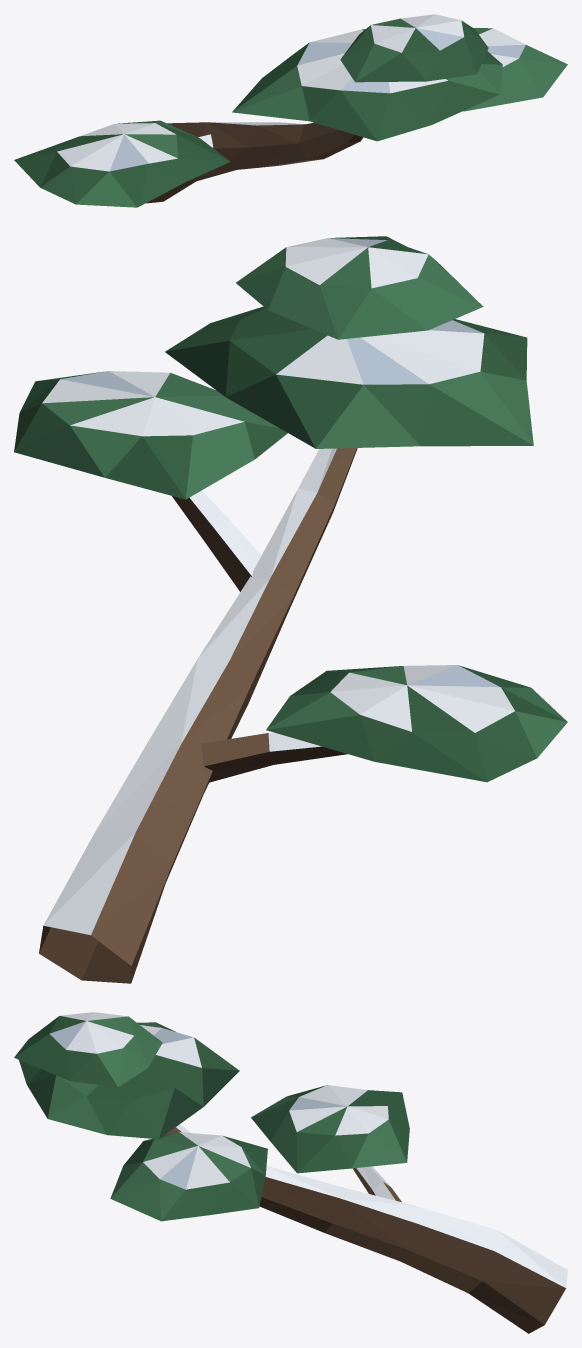
The model's file is pine_falls_lip.fbx.
The picture shows the model from 3 angles, top to bottom: view 1: azimuth 30°, elevation 25°; view 2: azimuth 150°, elevation 25°; view 3: azimuth 270°, elevation 25°; orthographic projection. The views are drawn at different scales.
Visible parts, largest first — view 1: pine_falls_lip; view 2: pine_falls_lip; view 3: pine_falls_lip.
Boxes of the visible parts, <box> form: pine_falls_lip: <box>14,14,567,207</box>; pine_falls_lip: <box>14,236,567,983</box>; pine_falls_lip: <box>14,1012,567,1333</box>.
Bounding box in the file's own units: 5.9 × 4.28 × 6.59.
